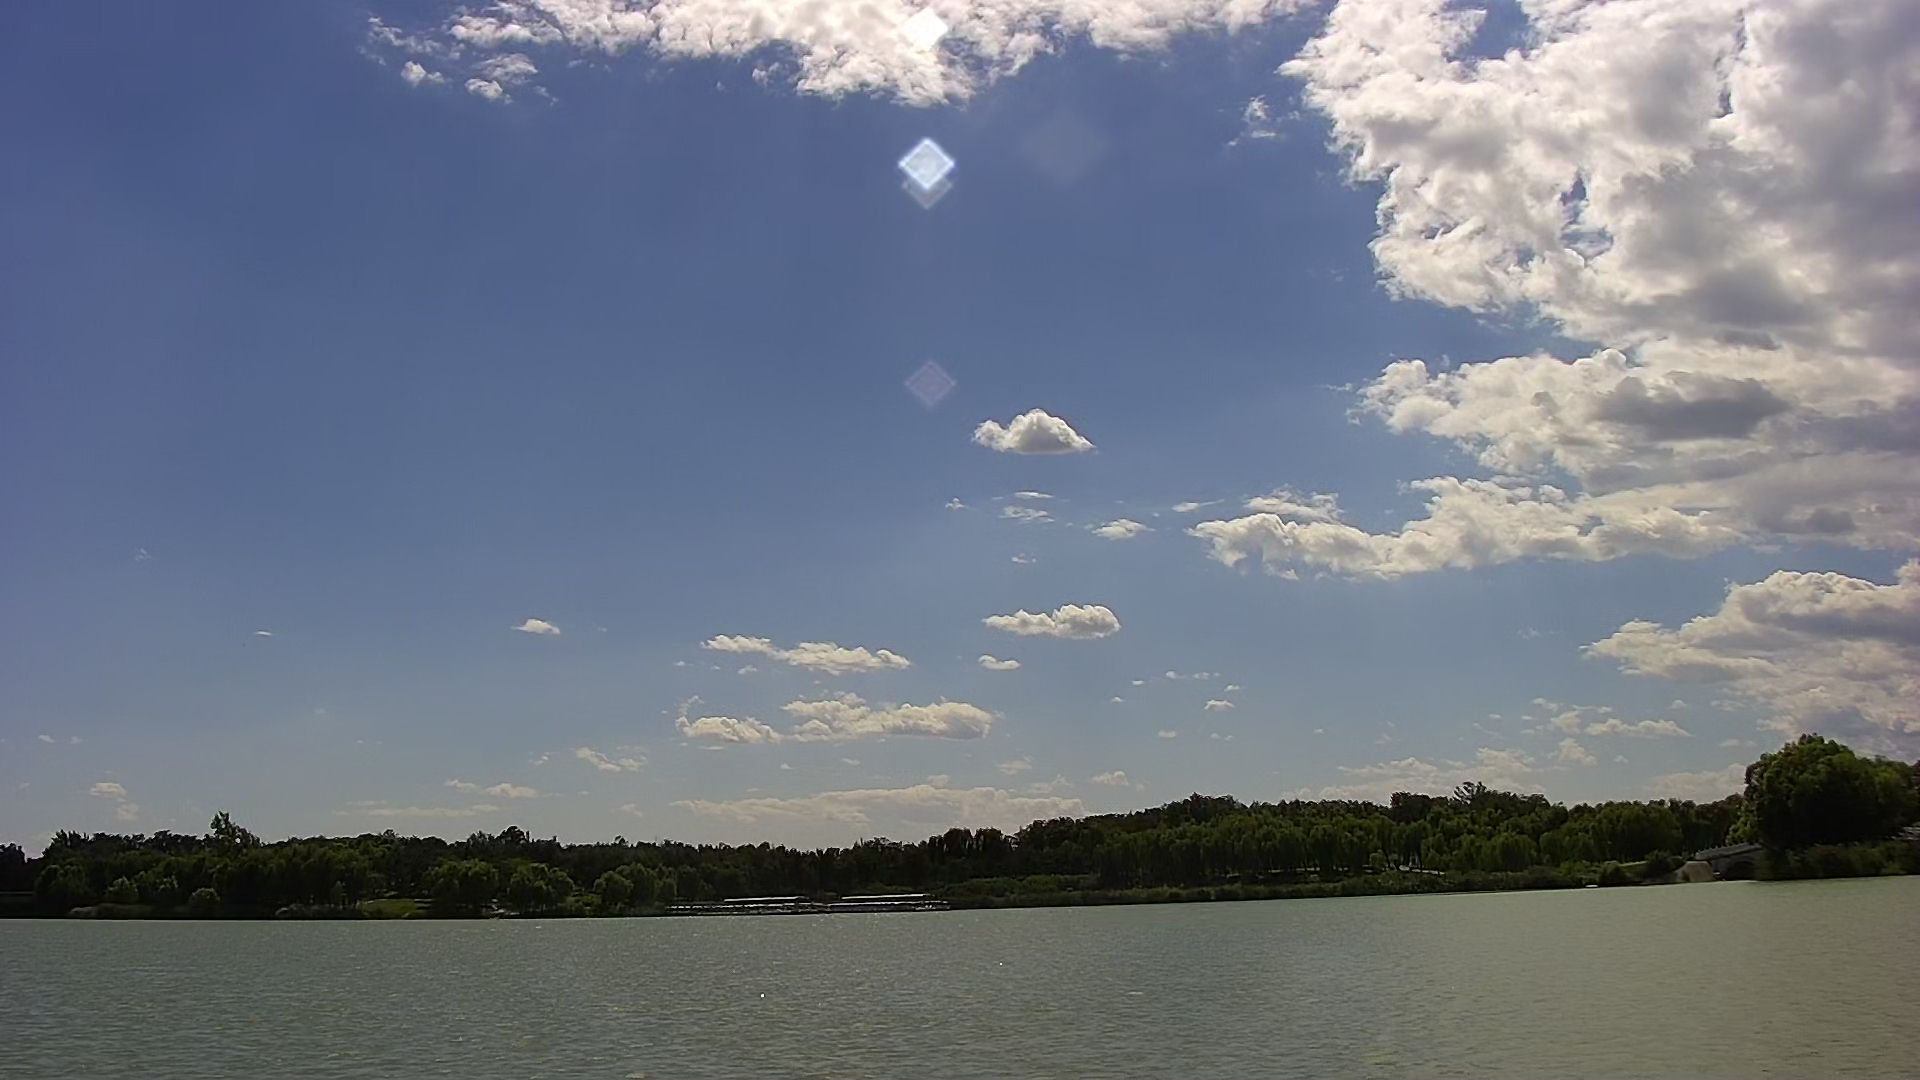harbor: (700, 895, 928, 911)
